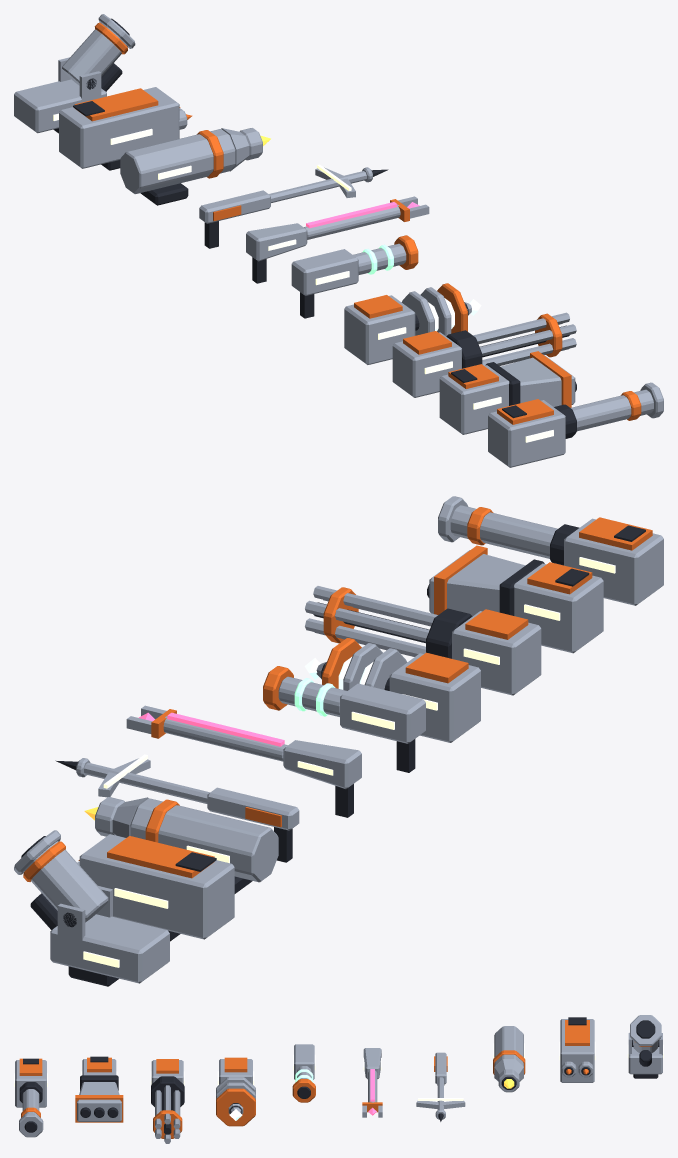
The model's file is guns.glb.
3 views of the same model, one above another, from view 1: azimuth 30°, elevation 25°; view 2: azimuth 150°, elevation 25°; view 3: azimuth 270°, elevation 25° (orthographic). The views are drawn at different scales.
Parts seen in each view (by area): view 1: gatling, missiles, rivet, scatter, flamer, tesla, mortar, ricochet, laser, needle; view 2: gatling, mortar, missiles, scatter, rivet, tesla, flamer, ricochet, laser, needle; view 3: scatter, gatling, tesla, missiles, rivet, mortar, flamer, ricochet, needle, laser.
Part boxes in pixels (x1=…): gatling: x1=392, y1=312, x2=576, y2=397; missiles: x1=59, y1=87, x2=192, y2=170; rivet: x1=488, y1=382, x2=663, y2=467; scatter: x1=439, y1=351, x2=576, y2=434; flamer: x1=120, y1=128, x2=270, y2=205; tesla: x1=344, y1=283, x2=481, y2=364; mortar: x1=14, y1=14, x2=135, y2=133; ricochet: x1=291, y1=235, x2=418, y2=318; laser: x1=246, y1=196, x2=429, y2=283; needle: x1=199, y1=164, x2=388, y2=248; gatling: x1=305, y1=586, x2=541, y2=695; mortar: x1=14, y1=830, x2=169, y2=986; missiles: x1=77, y1=834, x2=234, y2=941; scatter: x1=427, y1=545, x2=603, y2=653; rivet: x1=438, y1=496, x2=663, y2=605; tesla: x1=304, y1=638, x2=480, y2=742; flamer: x1=84, y1=797, x2=278, y2=893; ricochet: x1=263, y1=666, x2=425, y2=772; laser: x1=126, y1=705, x2=361, y2=817; needle: x1=55, y1=754, x2=299, y2=862; scatter: x1=75, y1=1056, x2=123, y2=1122; gatling: x1=150, y1=1059, x2=184, y2=1143; tesla: x1=216, y1=1057, x2=255, y2=1126; missiles: x1=559, y1=1017, x2=595, y2=1082; rivet: x1=14, y1=1058, x2=47, y2=1137; mortar: x1=627, y1=1015, x2=663, y2=1078; flamer: x1=493, y1=1026, x2=525, y2=1092; ricochet: x1=292, y1=1044, x2=315, y2=1102; needle: x1=416, y1=1052, x2=465, y2=1121; laser: x1=362, y1=1048, x2=382, y2=1117.
Bounding box in the file's own units: 1.63 × 0.8713 × 5.71.
